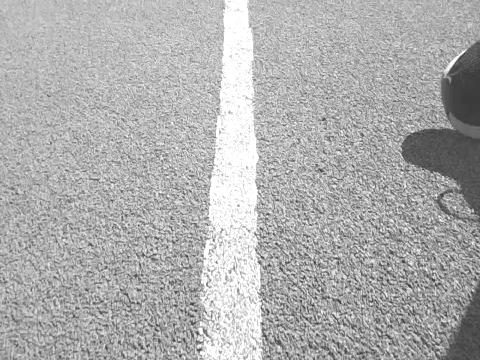Lines: (194, 0, 265, 359)
